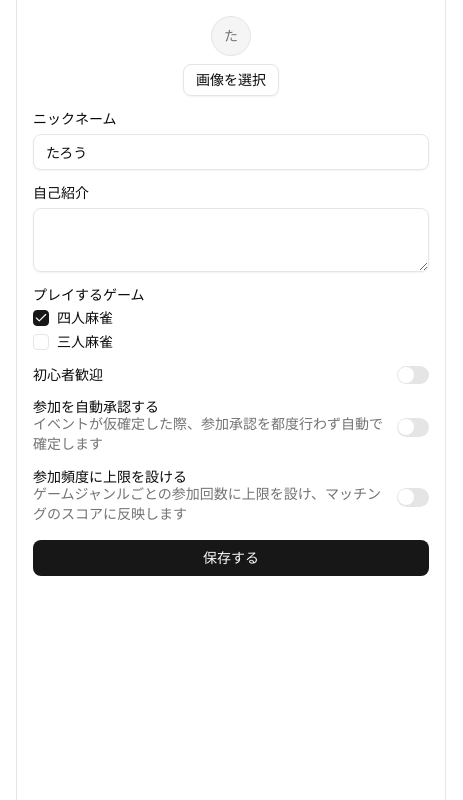
Test: ProfileEditPage › ニックネーム重複などインライン表示エラーはニックネーム欄にエラー表示する
Expected: the field labelled "ニックネーム" is shown, [33,134,429,170]
Step 1. Click the button "保存する" → (231, 558), box [33,540,429,576]
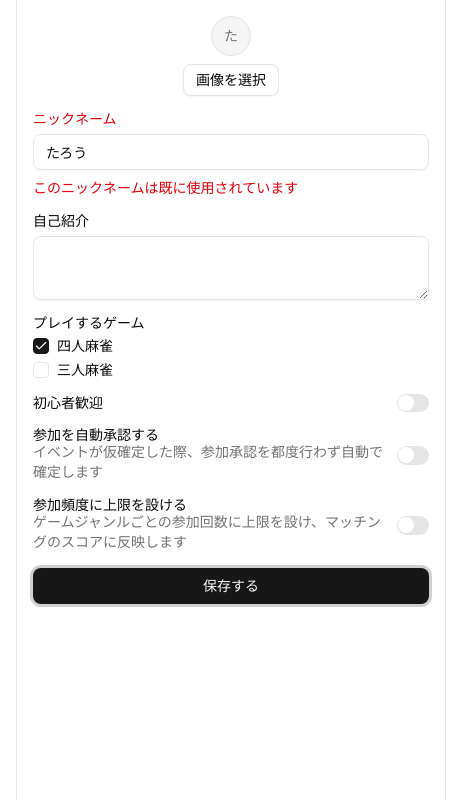
Now the text "このニックネームは既に使用されています" is shown, box [33,179,298,196]
